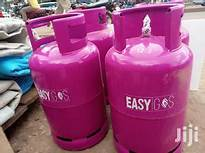bright_gas: (108, 4, 193, 153), (26, 13, 108, 149), (68, 8, 121, 102), (133, 3, 190, 88)
